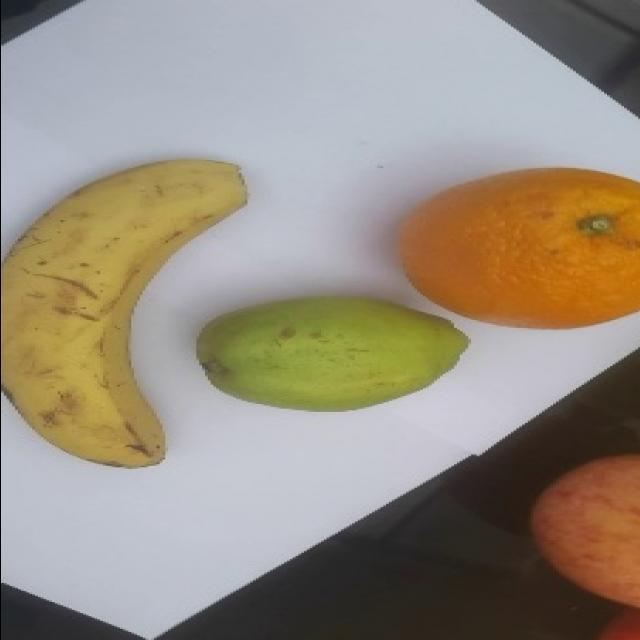Banana: (0, 156, 247, 468)
Orange: (398, 165, 639, 329)
